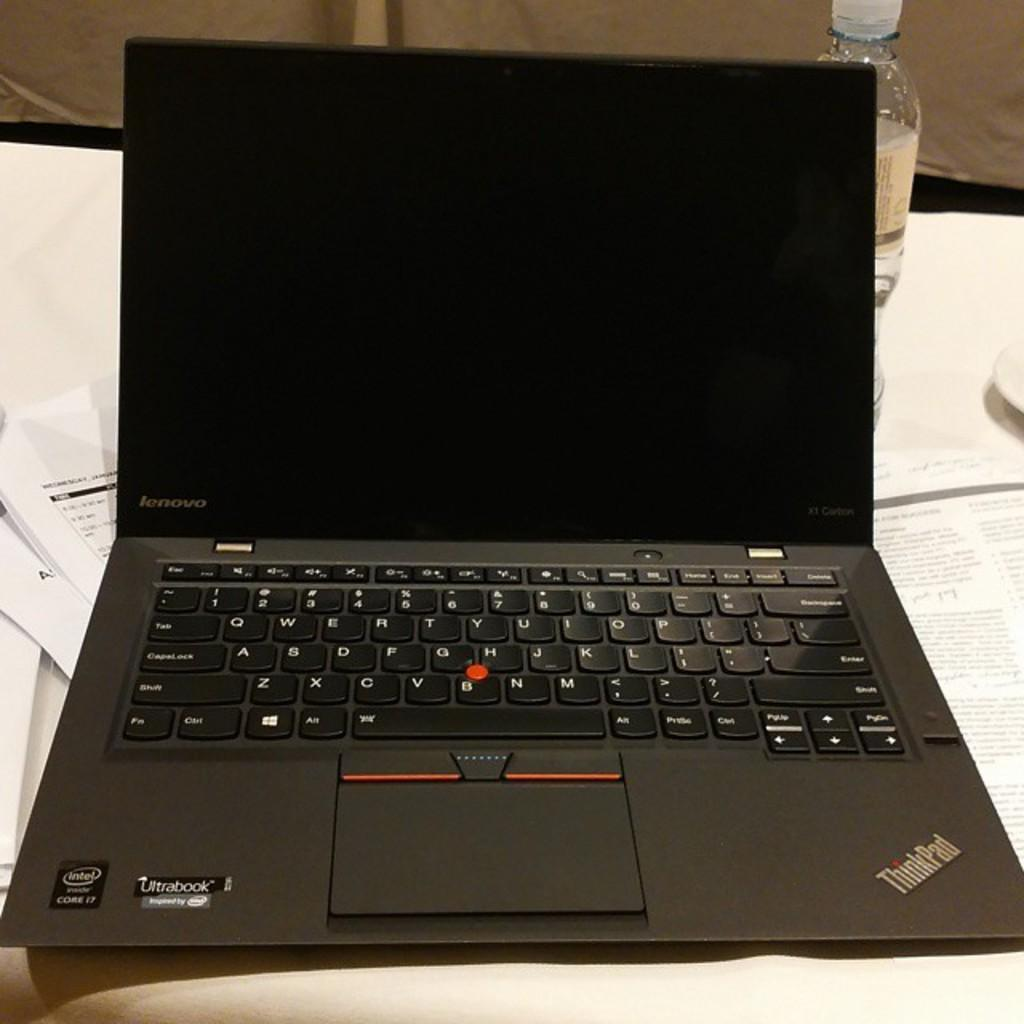Computer-keyboard: (122, 558, 917, 750)
